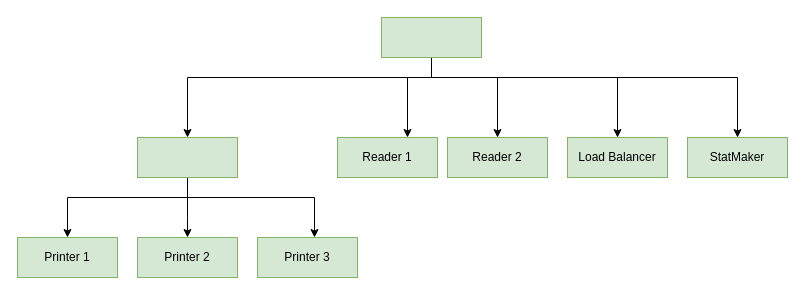
This 805x295 diagram has some shape labels left out. The shapes that lost their labels are listed below. From the top down, each one's centre as x and y in pixels, then its label:
At [431,37]: "BEAM".
At [187,157]: "Printer supervisor".
